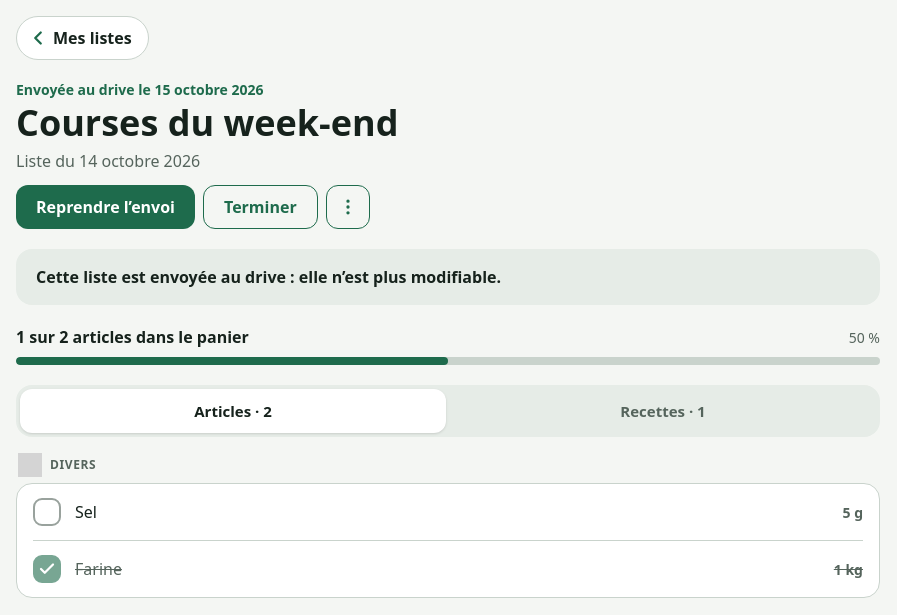
it: liste envoyée au drive (page de la liste) › est en lecture seule : cases désactivées, pas de + ni de −, pas de retrait de recette
Expected: the heading "Courses du week-end" is shown, left=16, top=98, right=398, bottom=147
Expected: the number of checkboxes is 2, left=33, top=498, right=61, bottom=526; left=33, top=555, right=61, bottom=583
Press the mouse on the tab "Recettes · 1" at (663, 411), box left=450, top=389, right=876, bottom=433
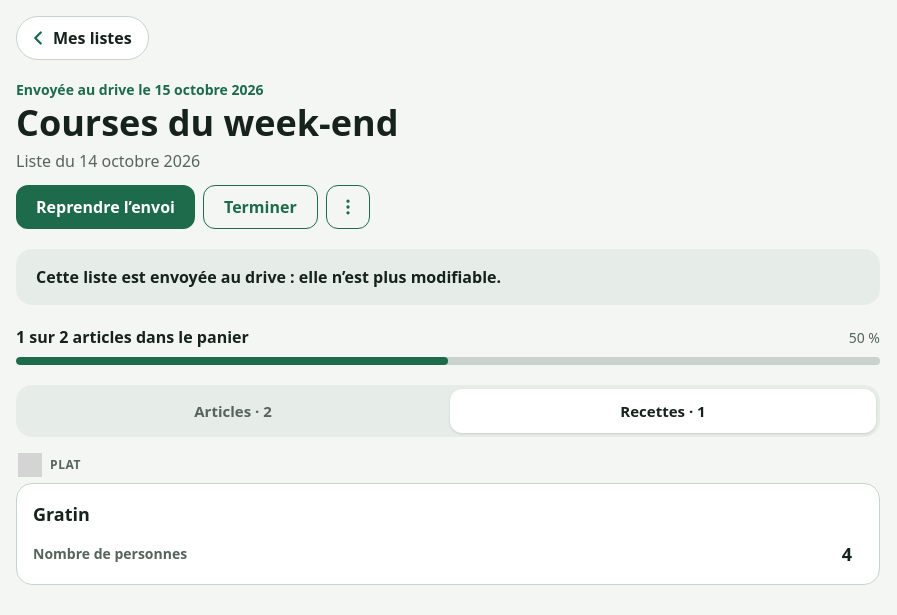
Expected: the text "Gratin" is shown, left=33, top=500, right=90, bottom=528
